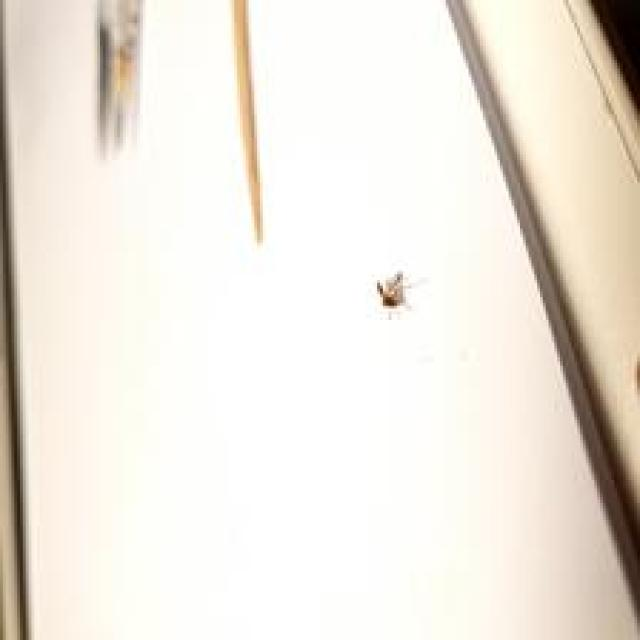Culex: (374, 270, 412, 319)
